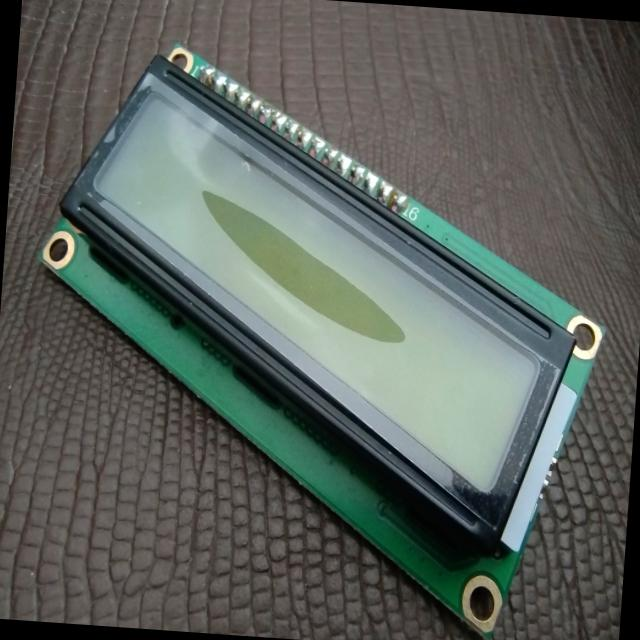lcd: (8, 7, 640, 640)
